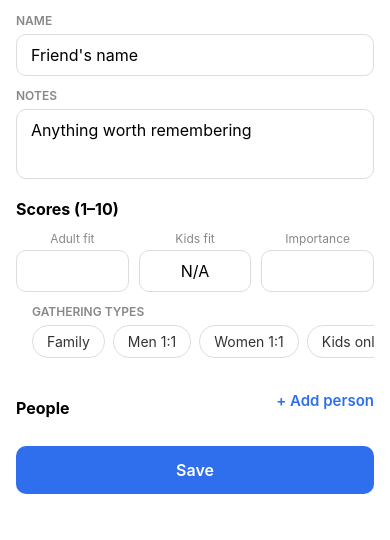
Test: FriendFormScreen (add) › submit__blank_name__shows_validation_error_and_does_not_call_createFriend
Click the element with test id "save-friend": (195, 470) [16,446,374,494]
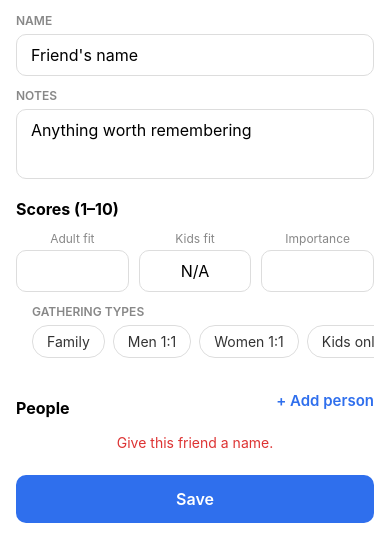
Expected: the text "Give this friend a name." is shown, [117,434,273,451]
